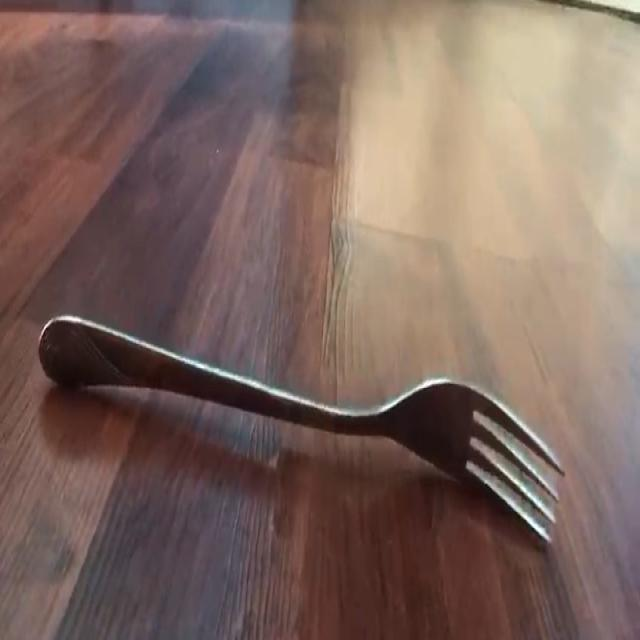spoon: (39, 316, 563, 541)
